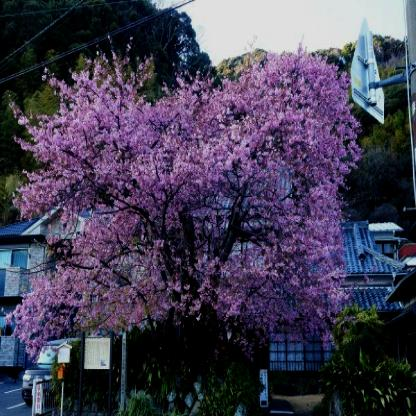KawazuSakura: (8, 32, 364, 380)
